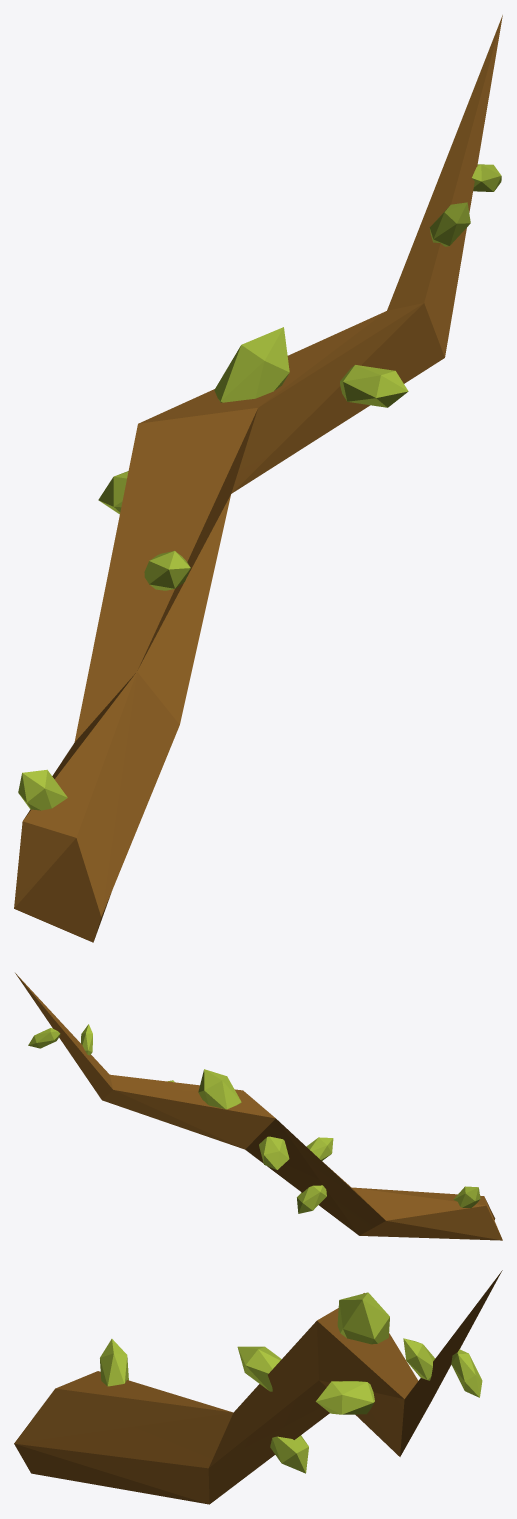
File: Rametto 1.fbx
3 renders of one model, top to bottom at view 1: azimuth 30°, elevation 25°; view 2: azimuth 150°, elevation 25°; view 3: azimuth 270°, elevation 25°, orthographic. The views are drawn at different scales.
Visible parts, largest first — view 1: node-0.001; view 2: node-0.001; view 3: node-0.001.
Boxes of the visible parts, box(x1,y1,x2,y2) form: node-0.001: box(14, 15, 502, 942); node-0.001: box(15, 973, 502, 1240); node-0.001: box(14, 1270, 502, 1504).
Size of the model in its own units: 73.88 by 54.45 by 48.86.
